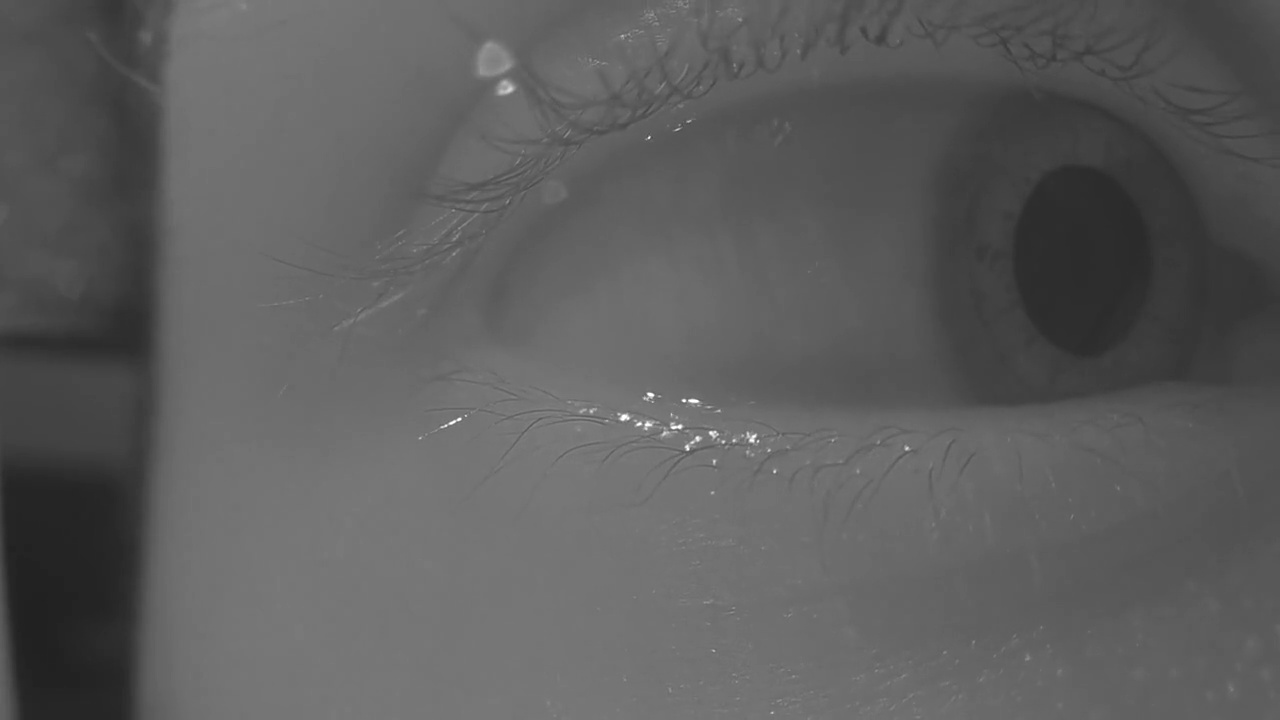pupil: (1012, 166, 1150, 356)
